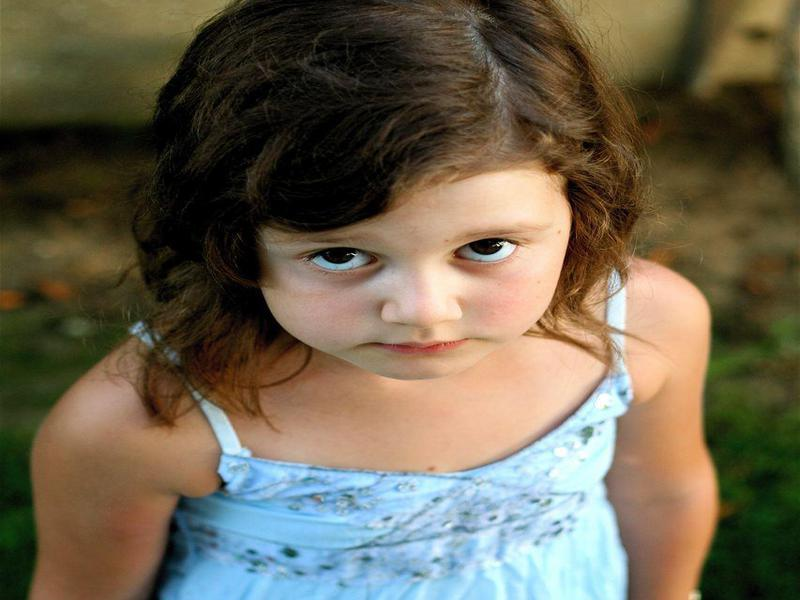person: (26, 1, 720, 600)
